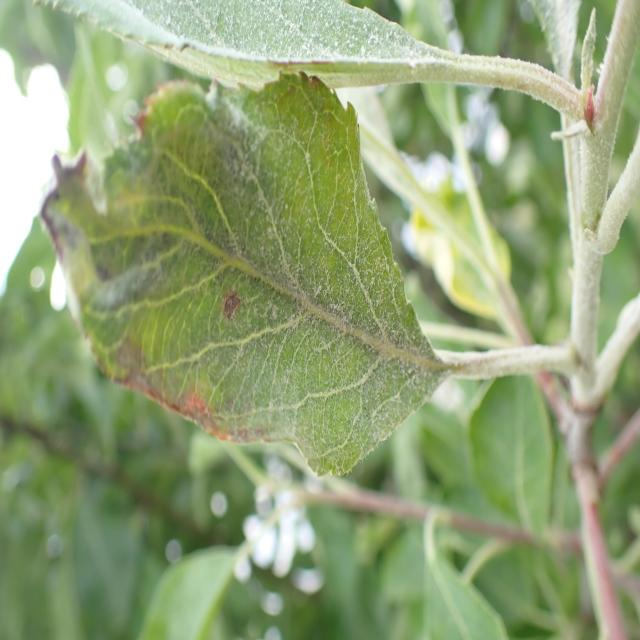Powdery_mildew: (35, 79, 459, 491), (0, 0, 540, 124)
